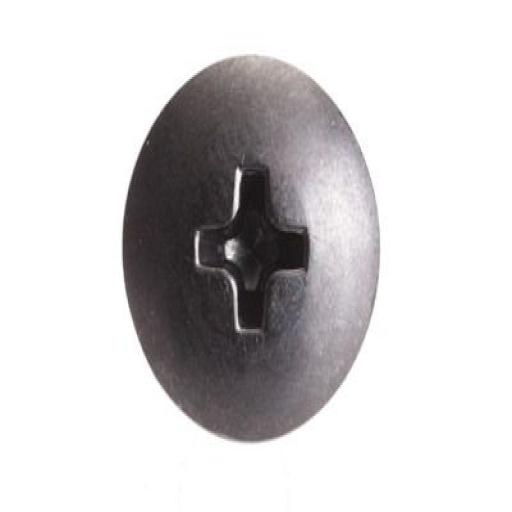Phillips: (122, 51, 384, 449)
